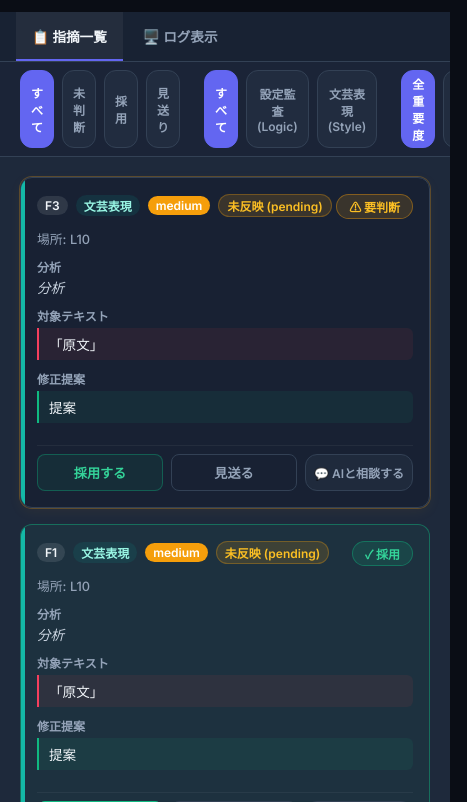
FindingsPanel decision UI › filters findings by decision when a decision filter chip is clicked
The image size is (467, 802).
Click the button with class "df-accepted". click: click(121, 109)
box: x1=104 y1=70 x2=138 y2=148
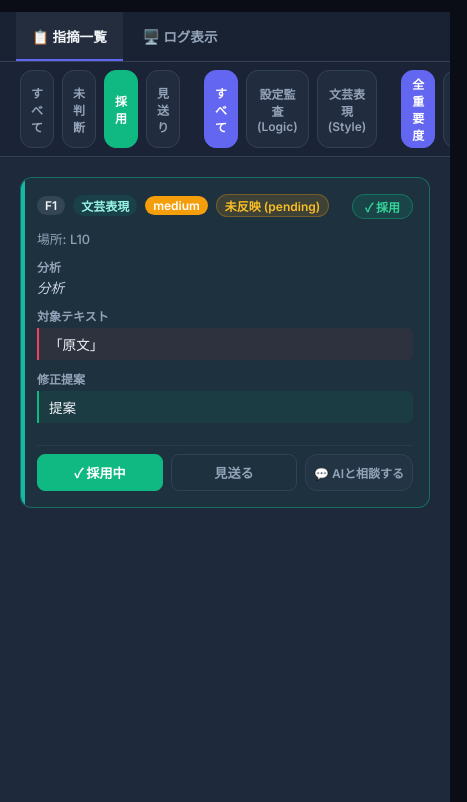
Result: the text "F1" is shown at x1=37 y1=196 x2=65 y2=215
Result: the text "F3" is gone
